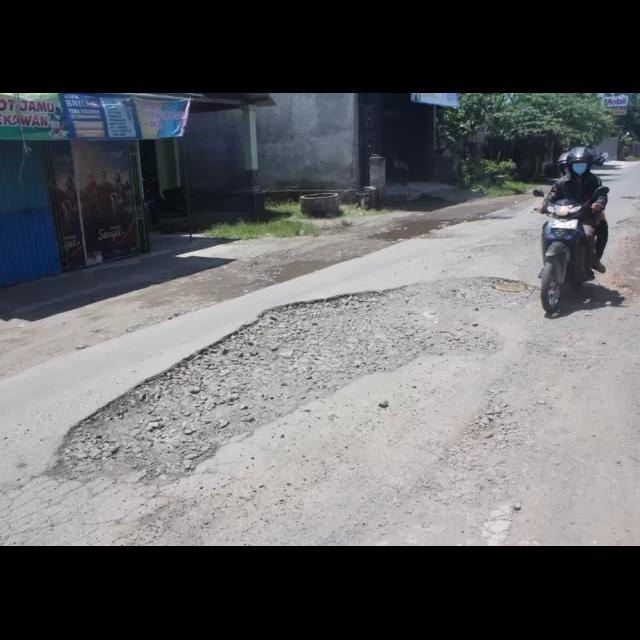lubang_kecil: (50, 271, 528, 503)
